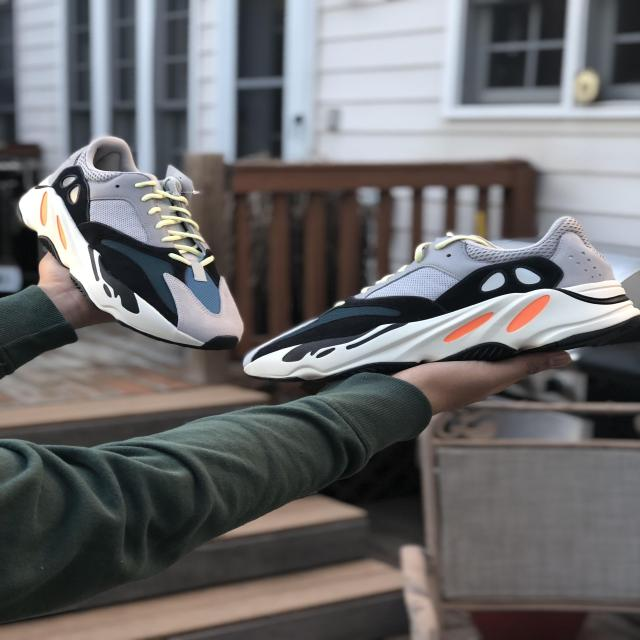shoe: (229, 211, 640, 397), (7, 130, 252, 356)
